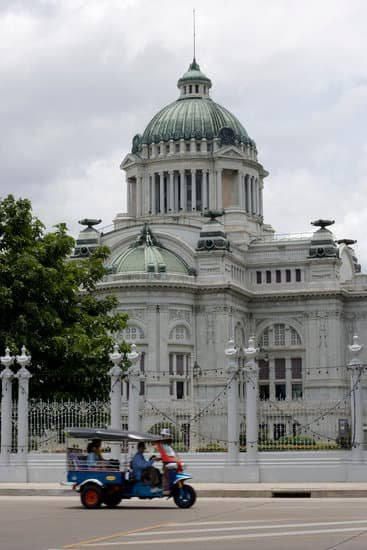threewheel: (62, 427, 197, 509)
